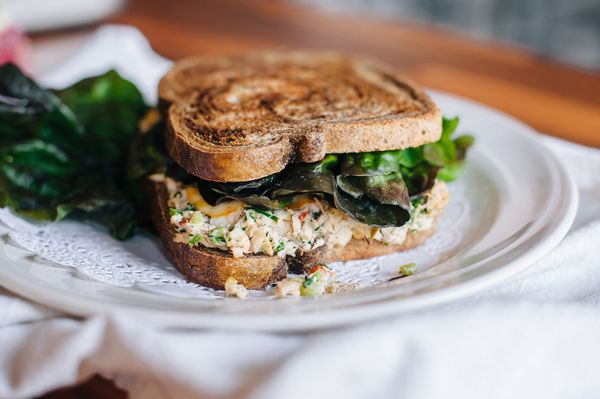soup: (142, 47, 477, 294)
